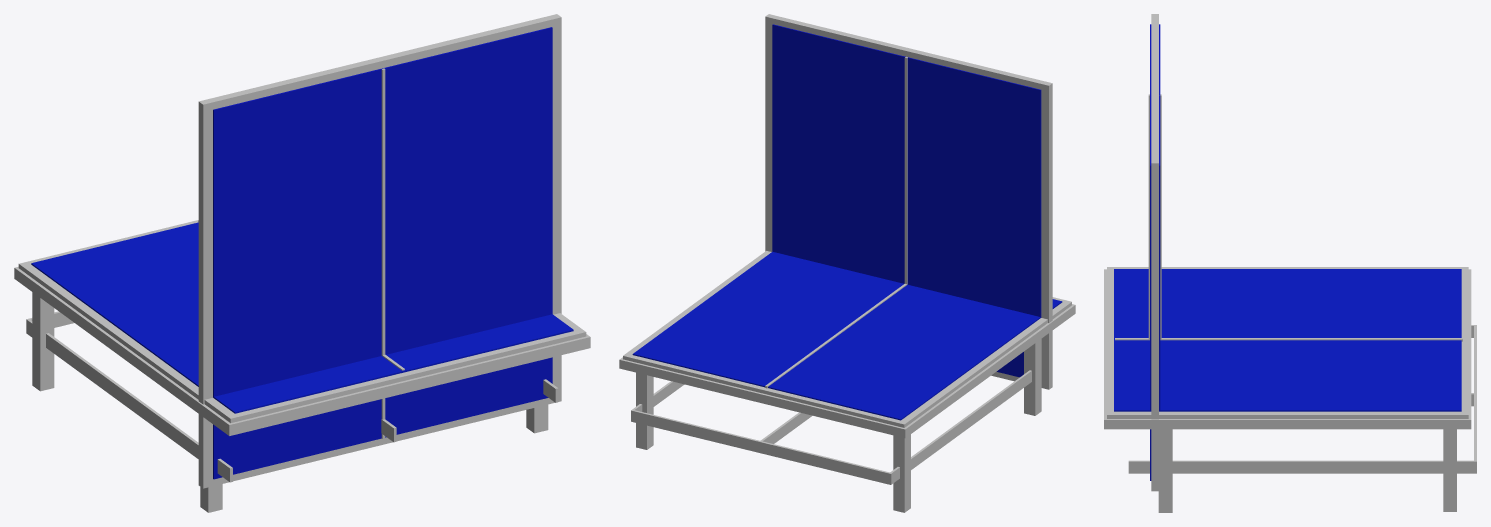
Rendered from tabletraining.obj.
3 renders of one model, left to right at view 1: azimuth 30°, elevation 25°; view 2: azimuth 150°, elevation 25°; view 3: azimuth 270°, elevation 25°, orthographic. The views are drawn at different scales.
Visible parts, largest first — view 1: Cube.004_Material.004, Cube.004_Material.003, Cube.006_Material.001, Cube.015_Material, Cube.006_Material.006, Cube.005_Material.009, Cube.015_Material.012, Cube.007_Material.007; view 2: Cube.004_Material.004, Cube.004_Material.003, Cube.006_Material.001, Cube.015_Material, Cube.006_Material.006, Cube.005_Material.010, Cube.005_Material.009, Cube.015_Material.012, Cube.015_Material.015, Cube.015_Material.013, Cube.007_Material.007, Cube.005_Material.011 (+1 smaller); view 3: Cube.004_Material.003, Cube.006_Material.006, Cube.015_Material, Cube.005_Material.005, Cube.006_Material.001, Cube.004_Material.004, Cube.015_Material.014, Cube.015_Material.013, Cube.002_Material.002, Cube.007_Material.007, Cube.005_Material.010.
Part boxes in pixels (x1,y1,x2,y2): Cube.004_Material.004: [213, 27, 552, 479]; Cube.004_Material.003: [31, 222, 573, 413]; Cube.006_Material.001: [198, 14, 561, 488]; Cube.015_Material: [14, 266, 590, 435]; Cube.006_Material.006: [18, 220, 586, 423]; Cube.005_Material.009: [26, 319, 232, 482]; Cube.015_Material.012: [32, 292, 54, 391]; Cube.007_Material.007: [381, 68, 385, 438]; Cube.004_Material.004: [772, 24, 1041, 377]; Cube.004_Material.003: [632, 251, 1062, 420]; Cube.006_Material.001: [765, 14, 1052, 389]; Cube.015_Material: [619, 304, 1075, 438]; Cube.006_Material.006: [623, 251, 1071, 427]; Cube.005_Material.010: [631, 410, 891, 484]; Cube.005_Material.009: [890, 370, 1031, 484]; Cube.015_Material.012: [893, 434, 910, 512]; Cube.015_Material.015: [1024, 339, 1041, 415]; Cube.015_Material.013: [636, 372, 653, 449]; Cube.007_Material.007: [904, 57, 907, 284]; Cube.005_Material.011: [760, 412, 812, 443]; Cube.004_Material.003: [1114, 269, 1461, 411]; Cube.006_Material.006: [1107, 267, 1468, 418]; Cube.015_Material: [1104, 269, 1471, 429]; Cube.005_Material.005: [1128, 460, 1476, 473]; Cube.006_Material.001: [1151, 14, 1158, 491]; Cube.004_Material.004: [1150, 24, 1160, 480]; Cube.015_Material.014: [1158, 429, 1172, 512]; Cube.015_Material.013: [1443, 429, 1456, 511]; Cube.002_Material.002: [1115, 338, 1462, 341]; Cube.007_Material.007: [1148, 94, 1161, 340]; Cube.005_Material.010: [1474, 325, 1476, 473].
Size of the model in its own units: 2.56 by 2.8 by 2.68.
